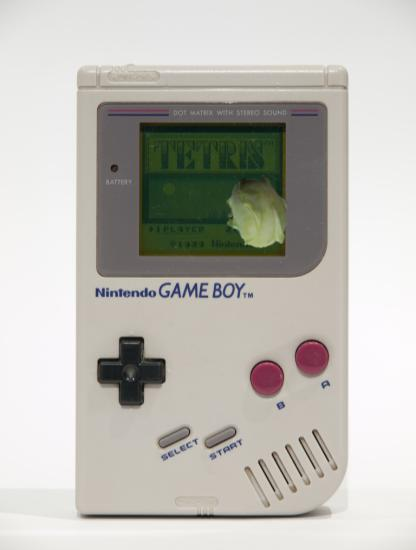Kohlrabi: (220, 176, 295, 251)
